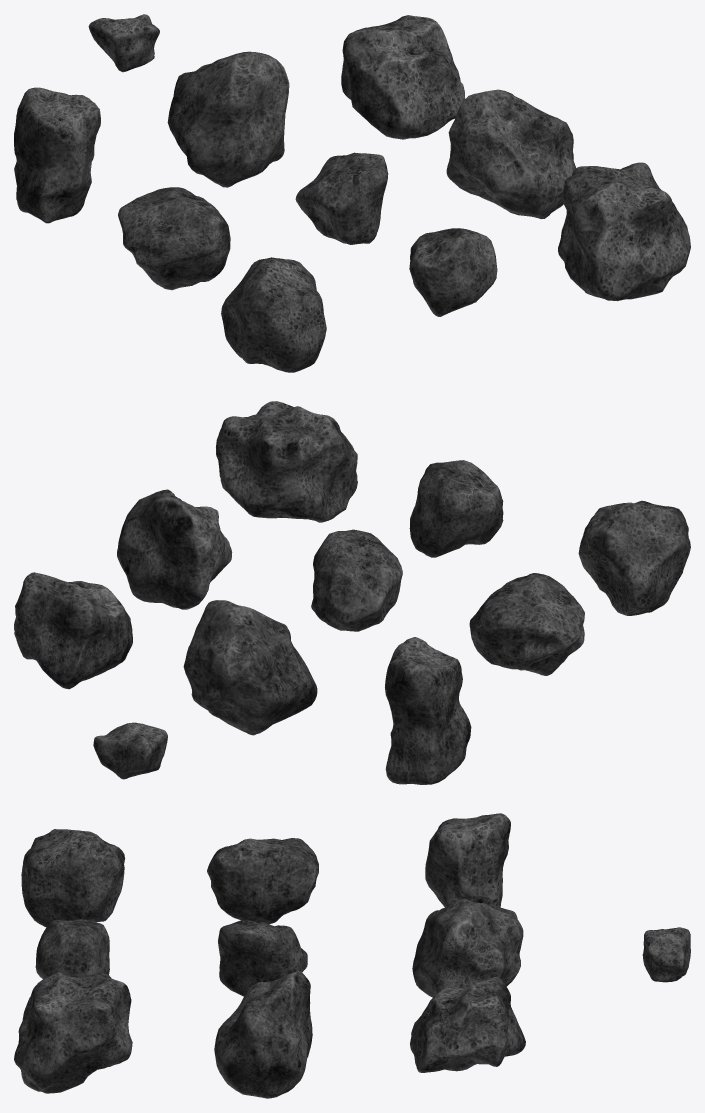
Rendered from AsteroidsPAck.fbx.
3 renders of one model, top to bottom at view 1: azimuth 30°, elevation 25°; view 2: azimuth 150°, elevation 25°; view 3: azimuth 270°, elevation 25°, orthographic. The views are drawn at different scales.
Visible parts, largest first — view 1: Asteroid_no_1, Asteroid_no_8, Asteroid_no_4, Asteroid_no_7, Asteroid_no_9, Asteroid_no_3, Asteroid_no_6, Asteroid_no_5, Asteroid_no_2, Asteroid_no_10; view 2: Asteroid_no_1, Asteroid_no_8, Asteroid_no_7, Asteroid_no_9, Asteroid_no_4, Asteroid_no_3, Asteroid_no_6, Asteroid_no_5, Asteroid_no_2, Asteroid_no_10; view 3: Asteroid_no_1, Asteroid_no_4, Asteroid_no_3, Asteroid_no_8, Asteroid_no_7, Asteroid_no_6, Asteroid_no_9, Asteroid_no_5, Asteroid_no_2, Asteroid_no_10.
Part boxes in pixels (left/top/right/bottom): Asteroid_no_1: left=558, top=162, right=690, bottom=301; Asteroid_no_8: left=167, top=51, right=289, bottom=187; Asteroid_no_4: left=446, top=89, right=576, bottom=219; Asteroid_no_7: left=341, top=15, right=464, bottom=139; Asteroid_no_9: left=14, top=87, right=100, bottom=223; Asteroid_no_3: left=221, top=257, right=326, bottom=372; Asteroid_no_6: left=118, top=187, right=230, bottom=290; Asteroid_no_5: left=295, top=152, right=388, bottom=244; Asteroid_no_2: left=409, top=228, right=497, bottom=316; Asteroid_no_10: left=88, top=14, right=159, bottom=72; Asteroid_no_1: left=216, top=401, right=357, bottom=522; Asteroid_no_8: left=183, top=600, right=317, bottom=735; Asteroid_no_7: left=14, top=572, right=132, bottom=689; Asteroid_no_9: left=385, top=637, right=471, bottom=784; Asteroid_no_4: left=117, top=489, right=232, bottom=609; Asteroid_no_3: left=578, top=500, right=690, bottom=615; Asteroid_no_6: left=469, top=573, right=584, bottom=675; Asteroid_no_5: left=311, top=529, right=402, bottom=631; Asteroid_no_2: left=409, top=460, right=503, bottom=557; Asteroid_no_10: left=93, top=722, right=167, bottom=779; Asteroid_no_1: left=14, top=972, right=132, bottom=1093; Asteroid_no_4: left=214, top=971, right=312, bottom=1098; Asteroid_no_3: left=21, top=829, right=125, bottom=927; Asteroid_no_8: left=412, top=899, right=523, bottom=997; Asteroid_no_7: left=410, top=977, right=525, bottom=1072; Asteroid_no_6: left=207, top=838, right=318, bottom=923; Asteroid_no_9: left=425, top=813, right=510, bottom=907; Asteroid_no_5: left=218, top=920, right=307, bottom=996; Asteroid_no_2: left=35, top=919, right=109, bottom=978; Asteroid_no_10: left=642, top=927, right=690, bottom=982.
Size of the model in its own units: 3430 by 909 by 4814.
Materials: 1 (1 with a texture image).
